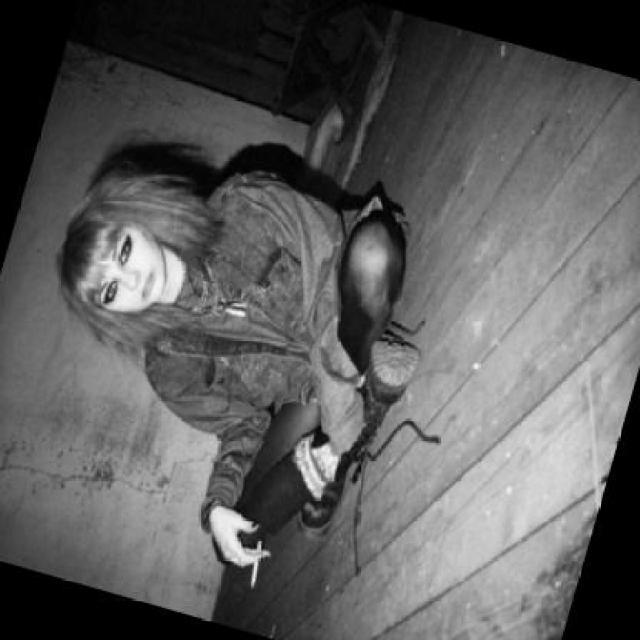cigarette: (240, 537, 272, 594)
